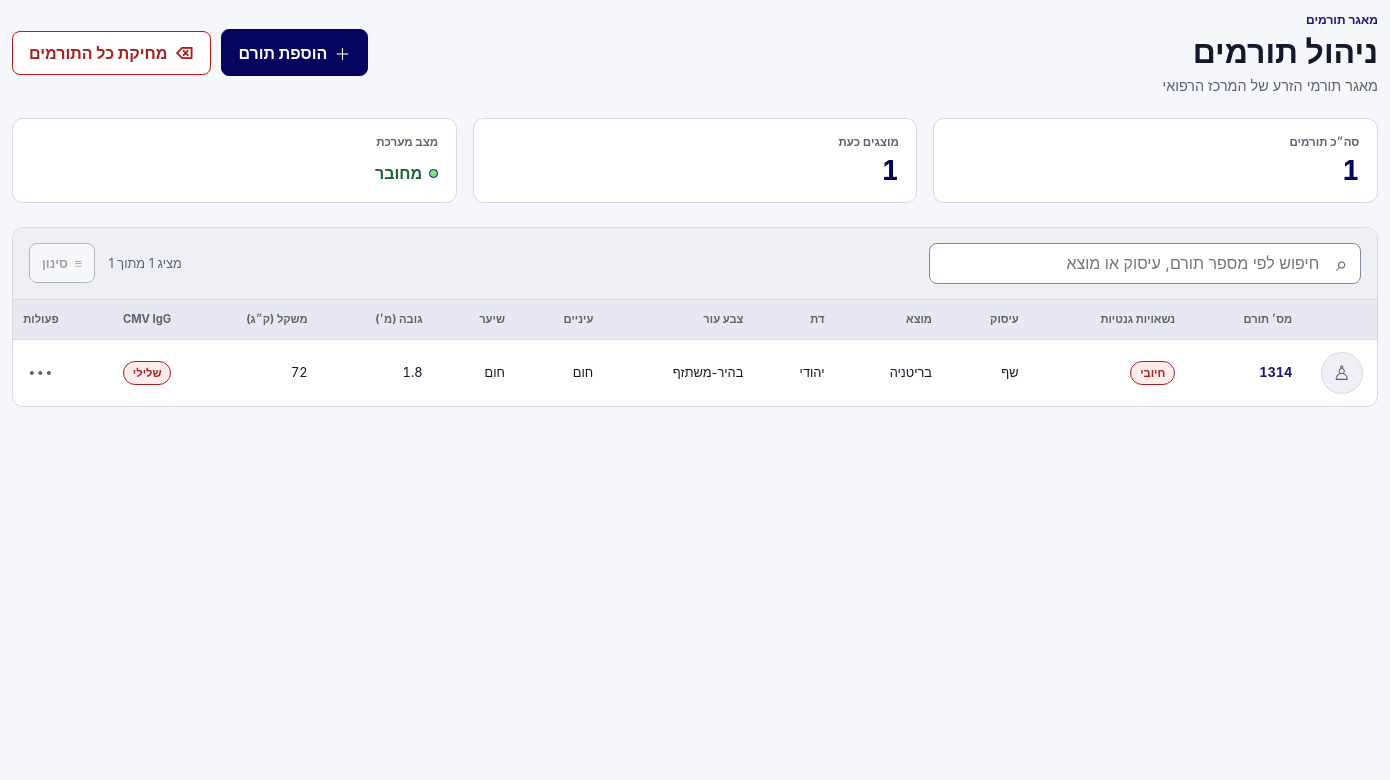
Test: DonorManagement › closes an open row action menu when clicking elsewhere
Click the button named "פעולות עבור תורם 1314" at (41, 373), box [21,353,61,393]
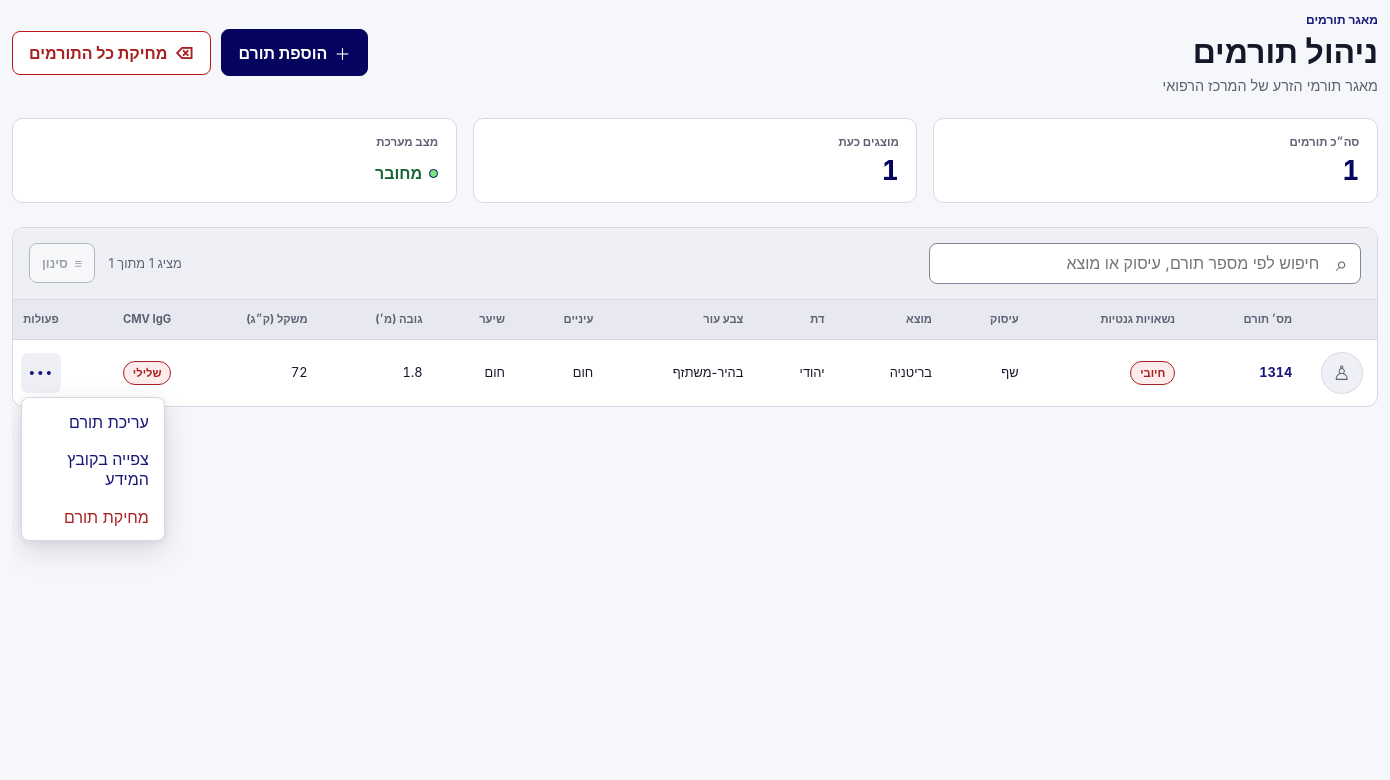
Result: the button named "פעולות עבור תורם 1314" is expanded at [21,353,61,393]
Click the heading "ניהול תורמים" at (1270, 52), box [1162,33,1378,71]
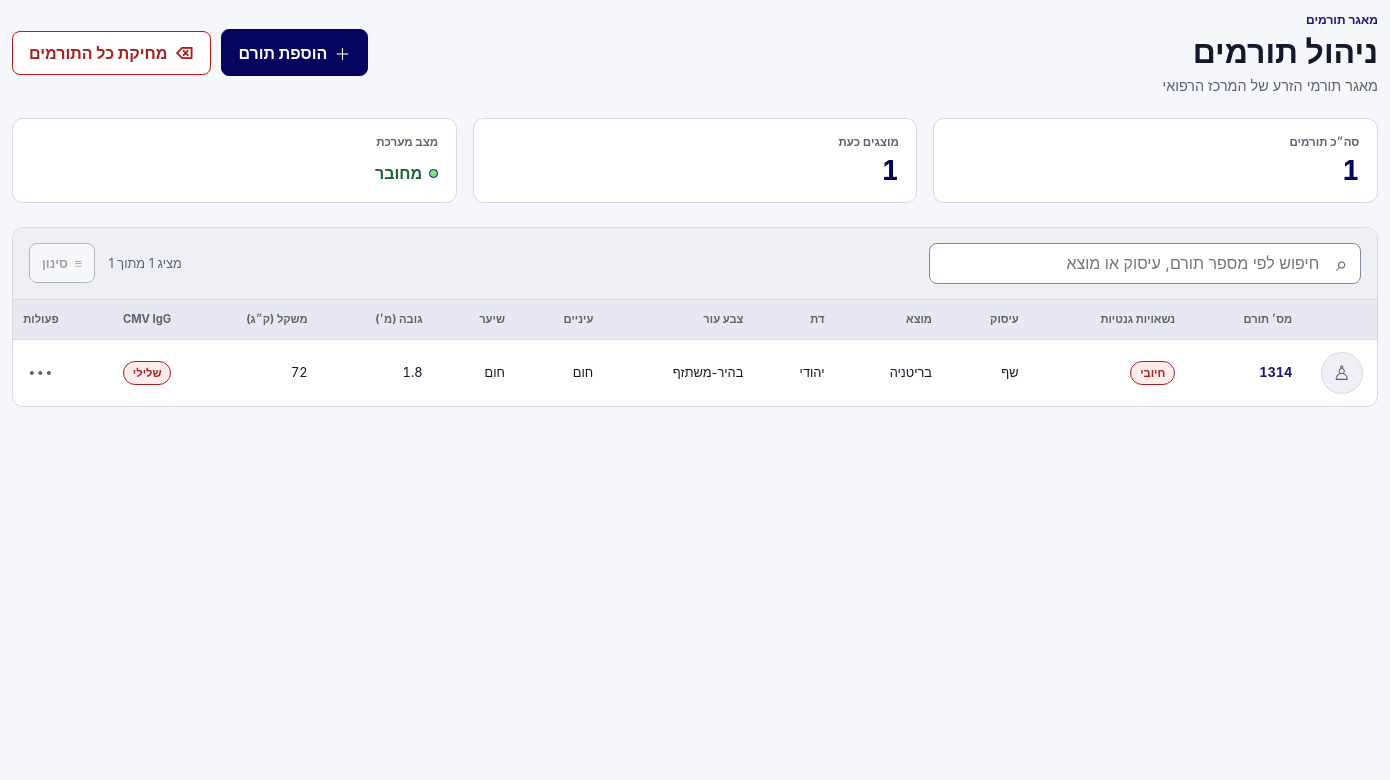
Result: the button named "פעולות עבור תורם 1314" is collapsed at [21,353,61,393]
